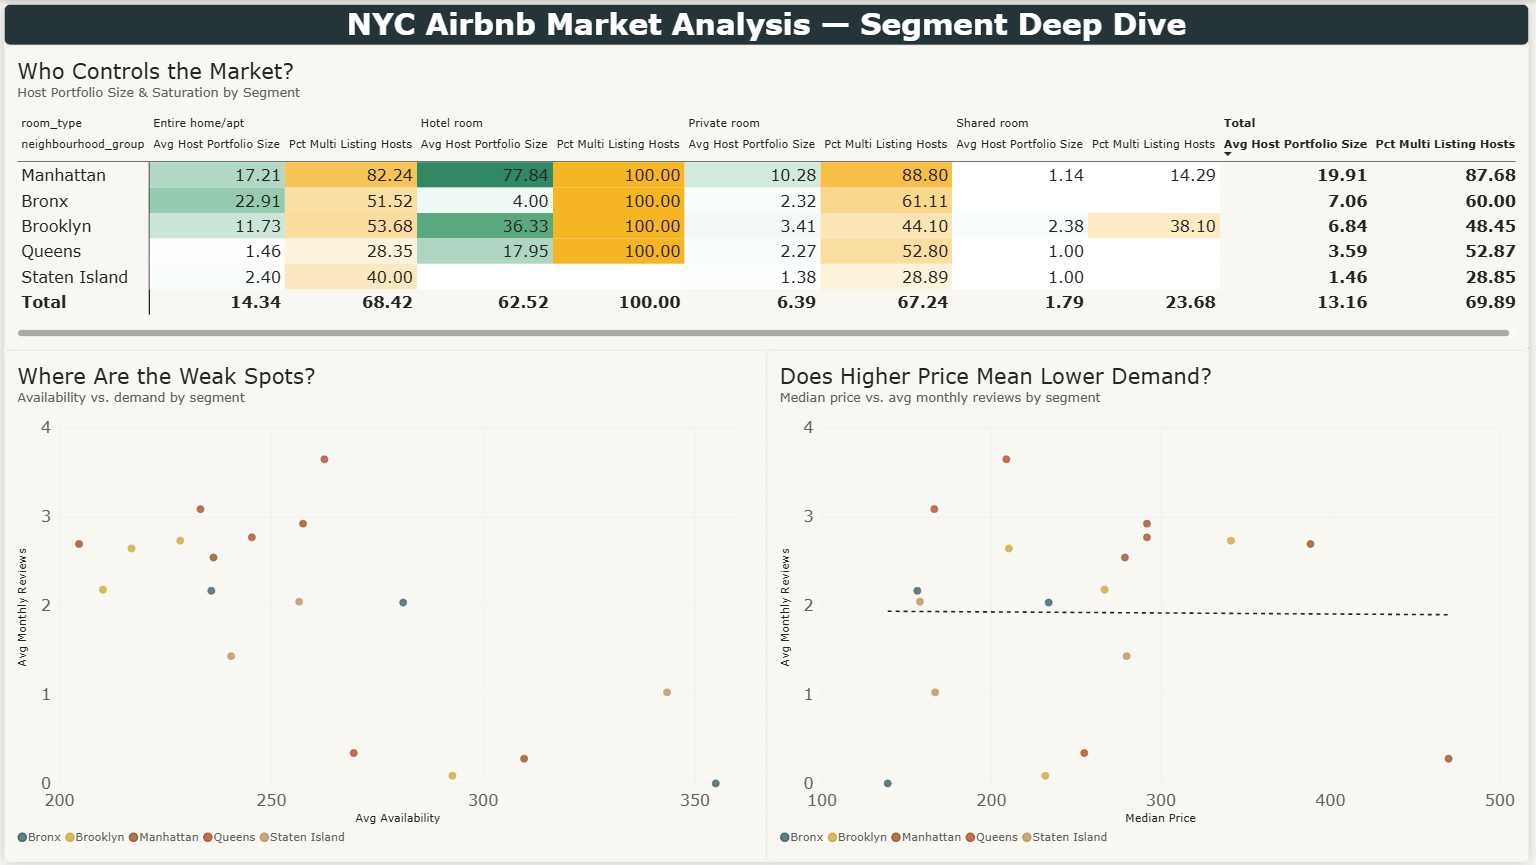

Layout of this report page (visuals, bound fields, positions):
{"tool":"powerbi","page":{"name":"Segment Deep Dive","canvas":[1920,1080],"ordinal":1},"visuals":[{"type":"textbox","box":[0,0,1920,52.2],"z":0},{"type":"pivotTable","title":"Who Controls the Market?","fields":{"Columns":["public listings_clean.room_type"],"Rows":["public listings_clean.neighbourhood_group"],"Values":["public listings_clean.Avg Host Portfolio Size","public listings_clean.Pct Multi Listing Hosts"]},"box":[0,52.2,1920,384],"z":1000},{"type":"scatterChart","title":"Where Are the Weak Spots?","fields":{"Category":["public listings_clean.room_type"],"Series":["public listings_clean.neighbourhood_group"],"X":["public listings_clean.Avg Availability"],"Y":["public listings_clean.Avg Monthly Reviews"]},"box":[0,436.2,960,644.9],"z":2000},{"type":"scatterChart","title":"Does Higher Price Mean Lower Demand?","fields":{"Category":["public listings_clean.room_type"],"Series":["public listings_clean.neighbourhood_group"],"X":["public listings_clean.Median Price"],"Y":["public listings_clean.Avg Monthly Reviews"]},"box":[960,436.2,960,644.9],"z":3000}]}

Visuals, with their boxes in screenshot pixels (x1, y1, x2, y2), scaled from the page's 1920x1080 canvas onto the 1536x865 screenshot:
textbox: locate(0, 0, 1535, 42)
"Who Controls the Market?" pivotTable: locate(0, 42, 1535, 349)
"Where Are the Weak Spots?" scatterChart: locate(0, 349, 768, 864)
"Does Higher Price Mean Lower Demand?" scatterChart: locate(768, 349, 1535, 864)
